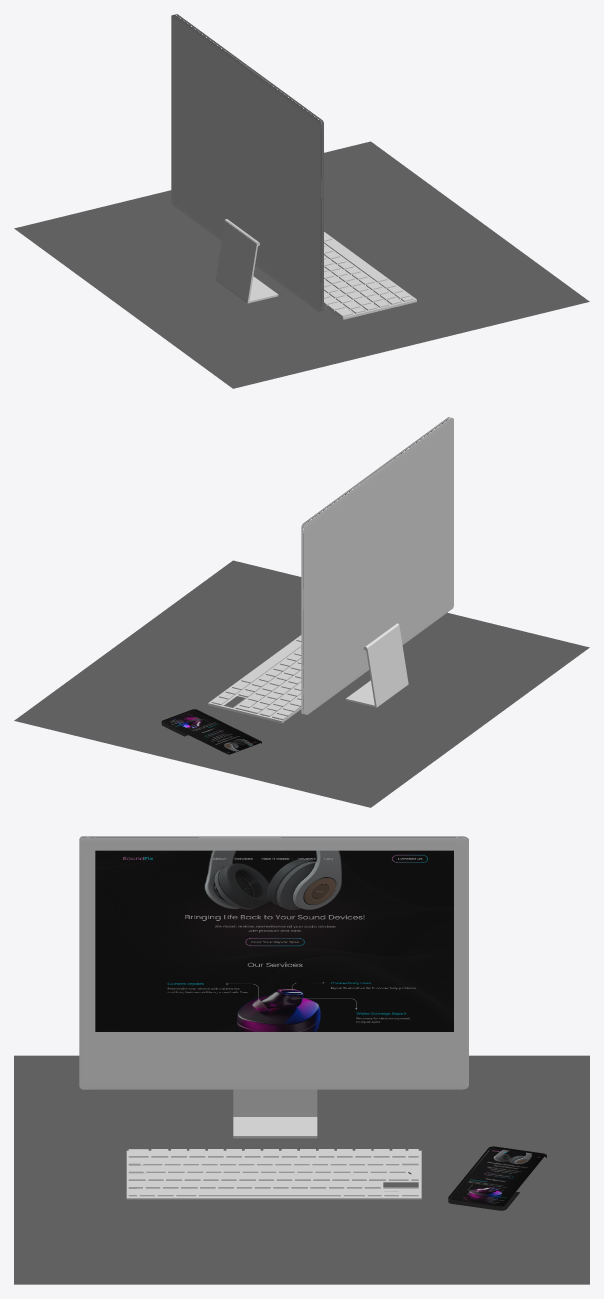
The model's file is Nada Yahia_22-101081_PC and Mobile Render.glb.
3 renders of one model, top to bottom at view 1: azimuth 30°, elevation 25°; view 2: azimuth 150°, elevation 25°; view 3: azimuth 270°, elevation 25°, orthographic. The views are drawn at different scales.
Visible parts, largest first — view 1: Plane, Cube.002, Cube, Cube.003; view 2: Plane, Cube.002, Cube, Cube.003, Cube.007; view 3: Cube.002, Plane, Cube, Cube.003, Cube.007.
Part boxes in pixels (left/top/right/bottom): Plane: left=14, top=141, right=589, bottom=388; Cube.002: left=171, top=14, right=323, bottom=311; Cube: left=324, top=232, right=416, bottom=319; Cube.003: left=215, top=221, right=278, bottom=303; Plane: left=14, top=560, right=589, bottom=807; Cube.002: left=301, top=417, right=453, bottom=714; Cube: left=208, top=635, right=301, bottom=723; Cube.003: left=346, top=626, right=408, bottom=707; Cube.007: left=161, top=709, right=261, bottom=754; Cube.002: left=79, top=836, right=468, bottom=1089; Plane: left=14, top=1055, right=589, bottom=1284; Cube: left=126, top=1149, right=421, bottom=1199; Cube.003: left=233, top=1089, right=317, bottom=1138; Cube.007: left=448, top=1146, right=546, bottom=1210.
Size of the model in its own units: 0.592 by 0.3533 by 0.6296.
Materials: 7 (2 with a texture image).
